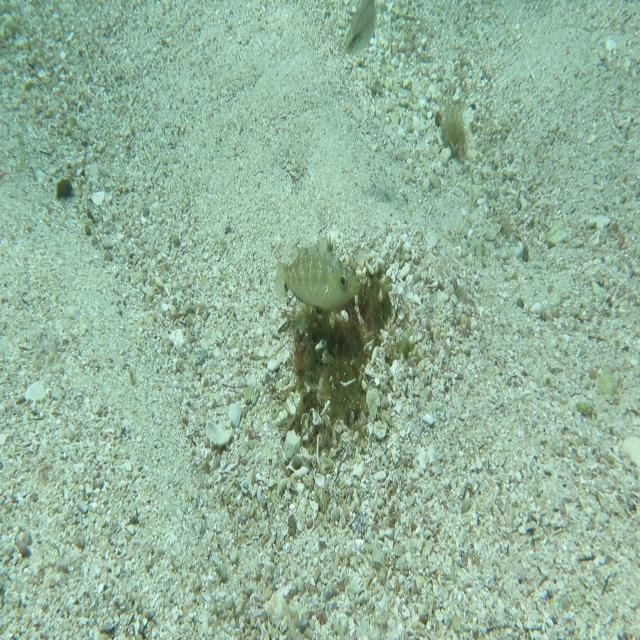FAN: (274, 232, 362, 313)
core_nest: (346, 289, 386, 328)
female: (342, 0, 376, 58)
nest: (285, 252, 414, 464)
vegetation: (439, 97, 472, 168), (57, 178, 78, 202)
